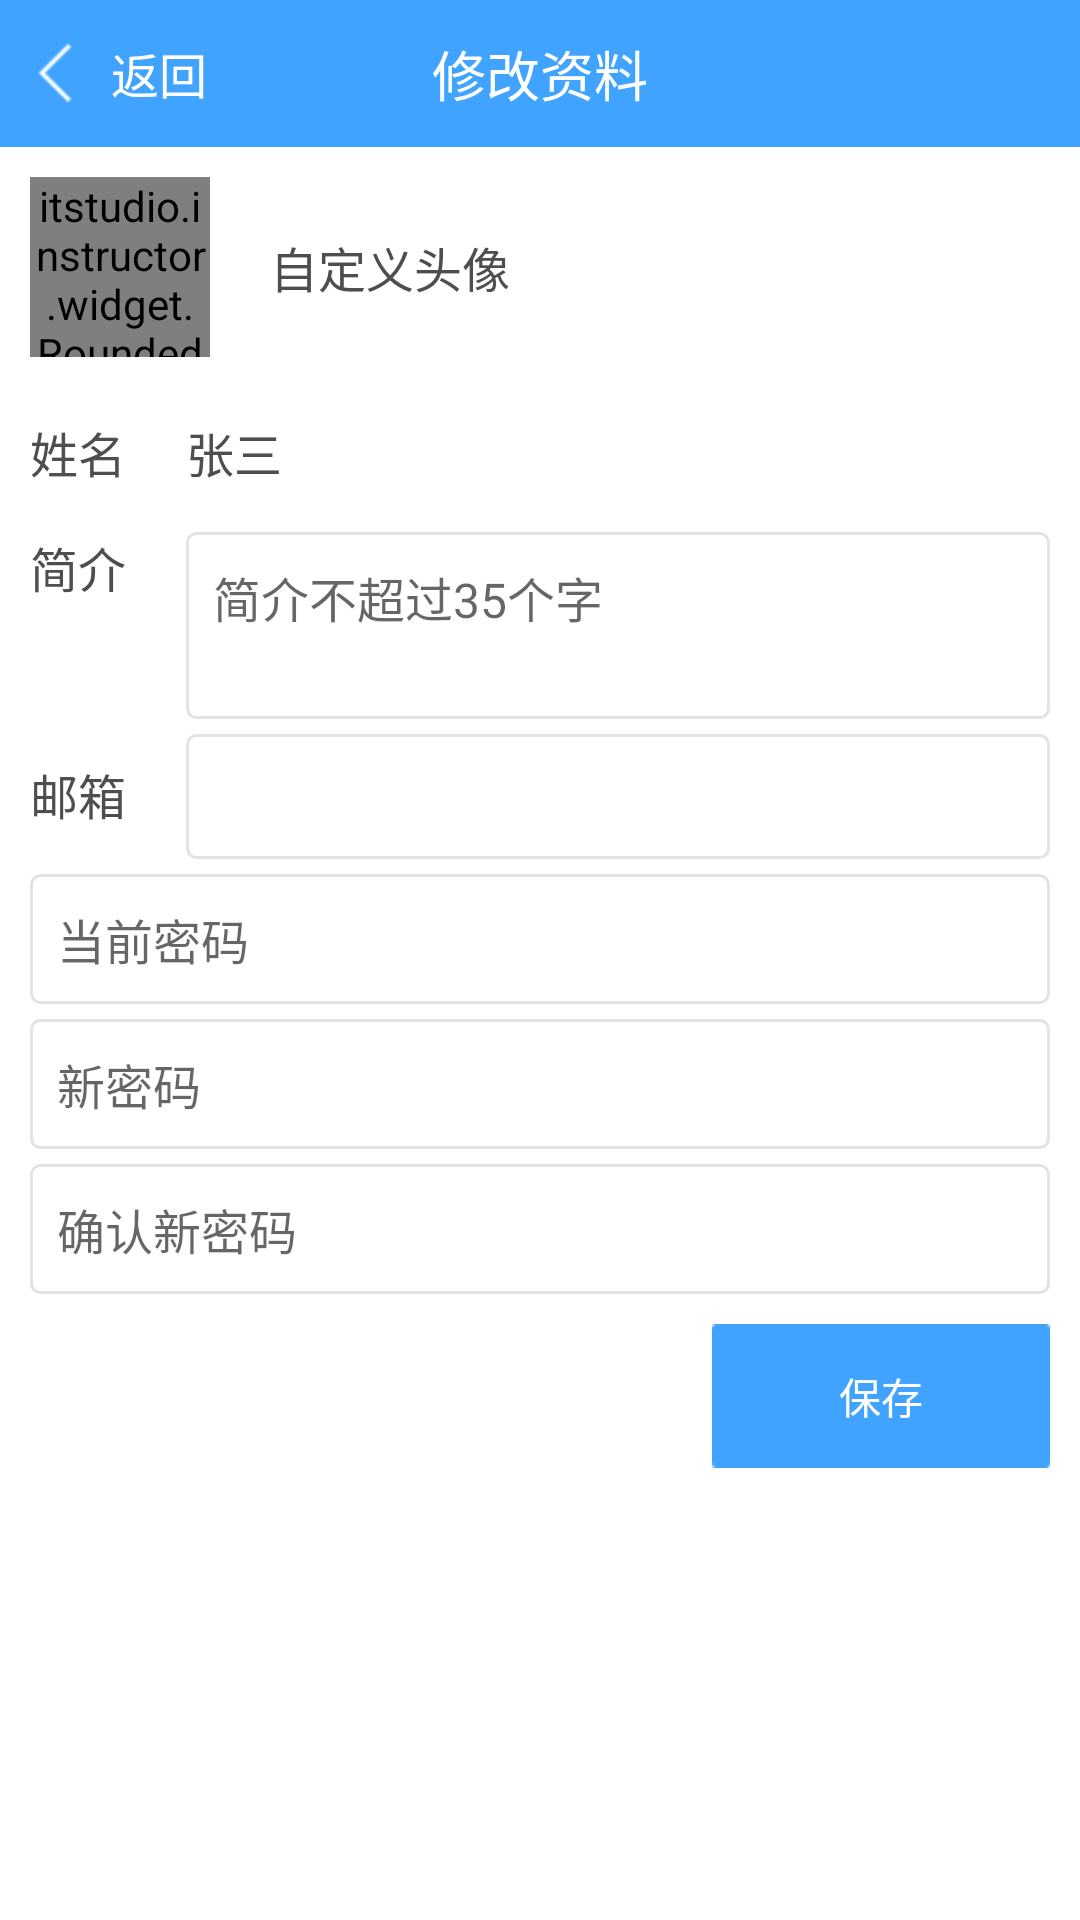

Named icons in this screenshot (1080x1920) and their centers, [x,y]:
arrow back: [55,73]
